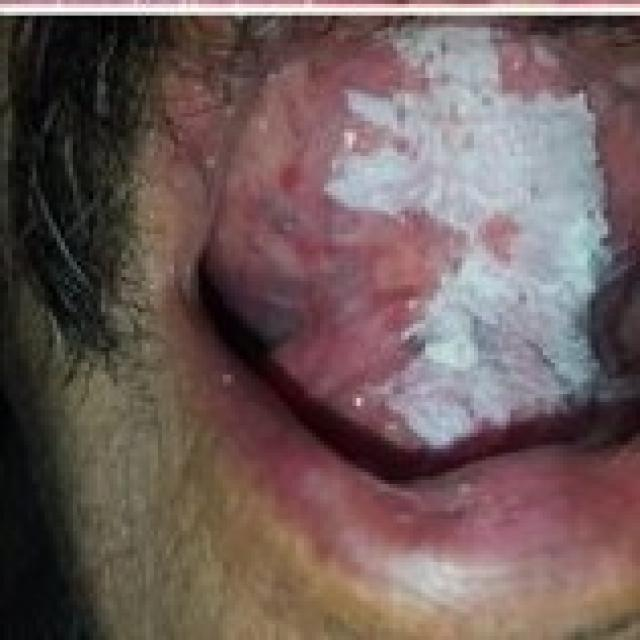Cancer: (320, 80, 624, 513)
